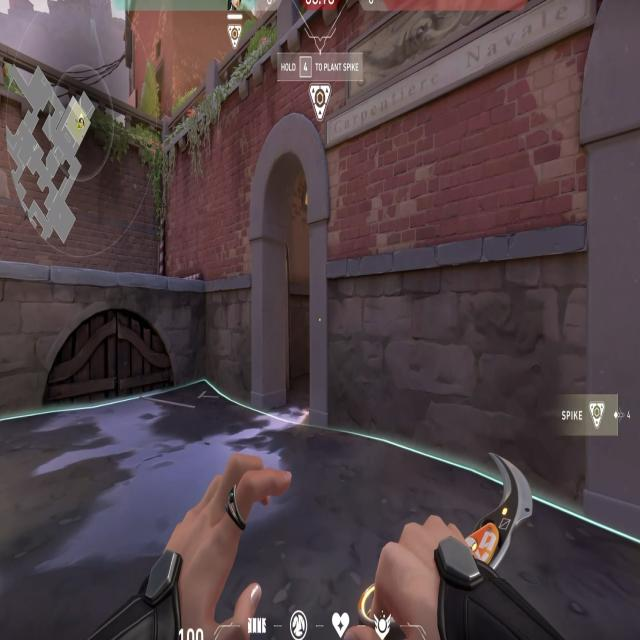B_Boathouse: (244, 106, 337, 426)
